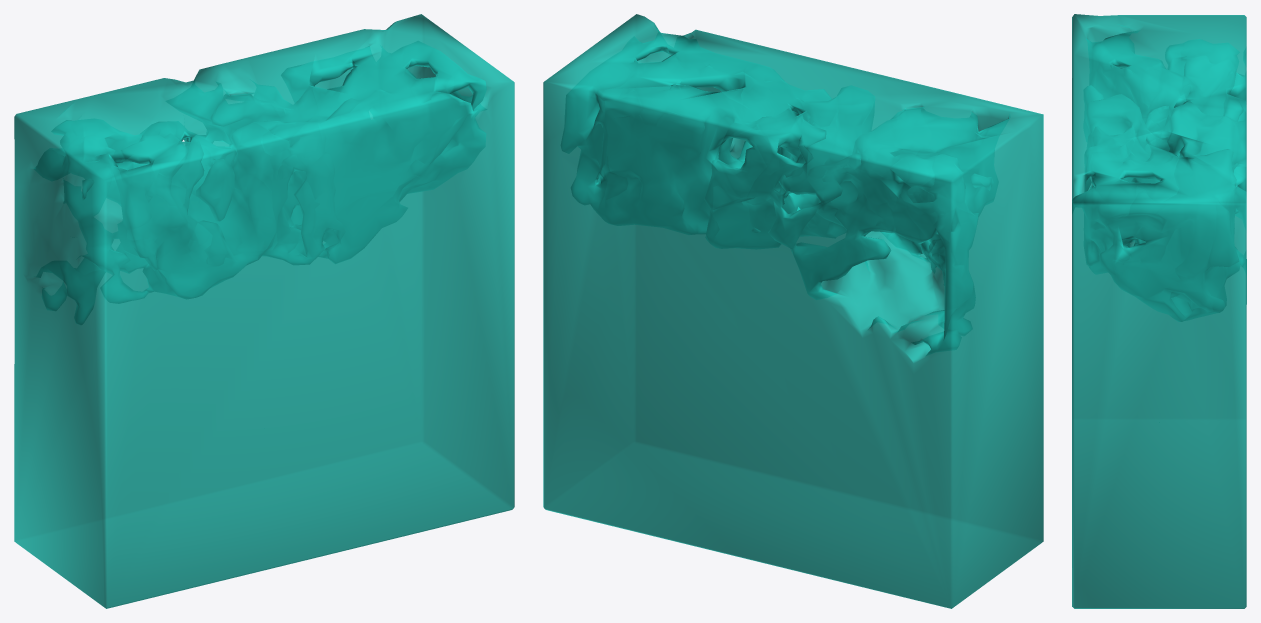
3 renders of one model, left to right at view 1: azimuth 30°, elevation 25°; view 2: azimuth 150°, elevation 25°; view 3: azimuth 270°, elevation 25°, orthographic. The views are drawn at different scales.
Parts seen in each view (by area): view 1: Liquid_Domain; view 2: Liquid_Domain; view 3: Liquid_Domain.
Boxes of the visible parts, <box> form: Liquid_Domain: <box>14,14,514,608</box>; Liquid_Domain: <box>543,14,1043,608</box>; Liquid_Domain: <box>1072,14,1246,608</box>.
Size of the model in its own units: 884 by 884 by 344.
